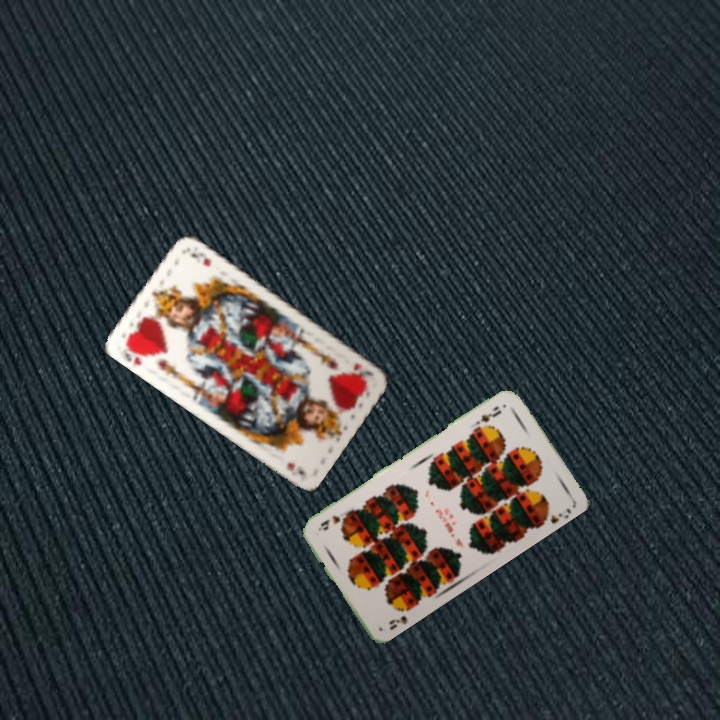HK: (119, 338, 149, 368), (349, 358, 375, 377)
S9: (385, 603, 415, 633), (476, 402, 504, 425)
